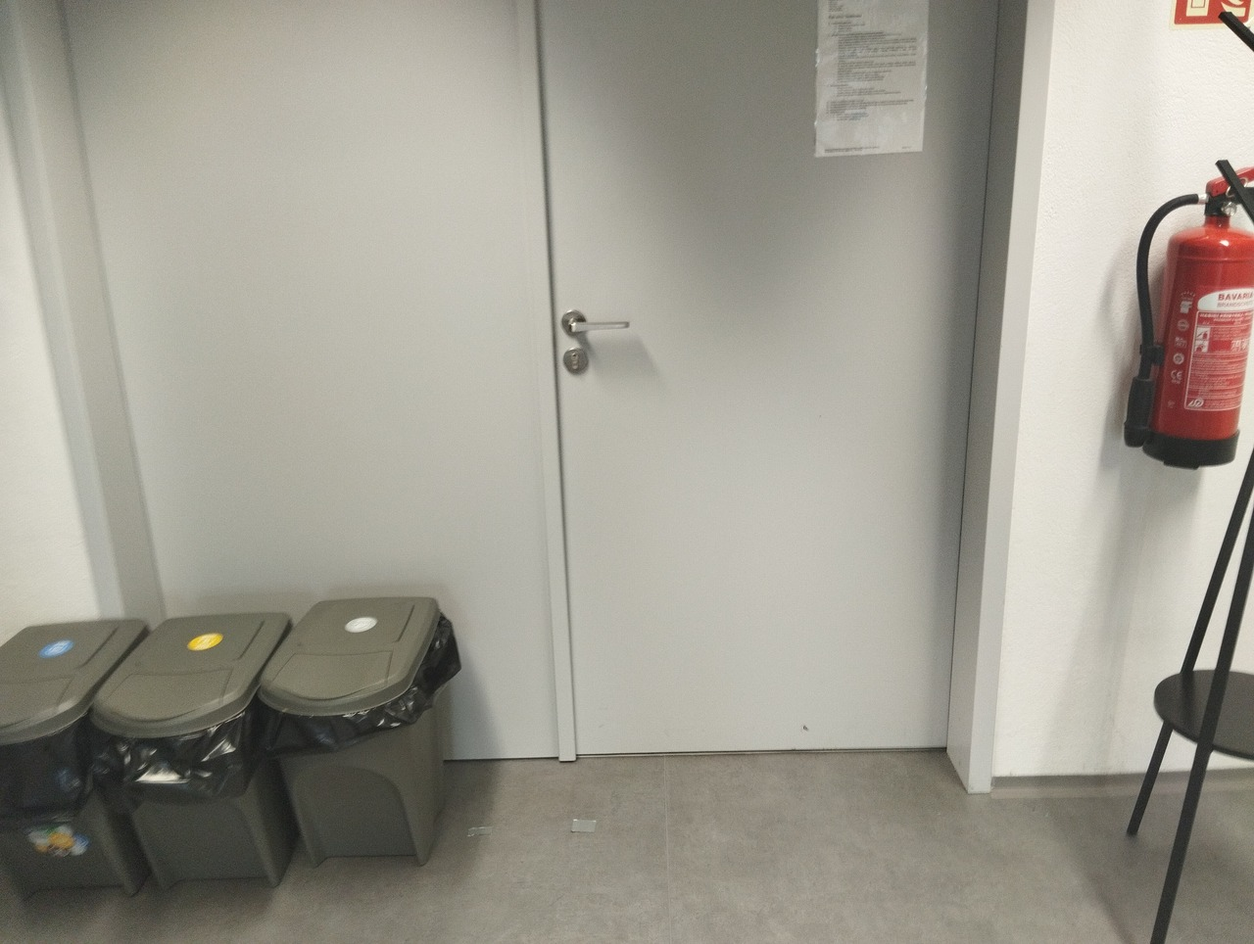Door-handle: (0, 604, 456, 906), (1125, 154, 1252, 467)
